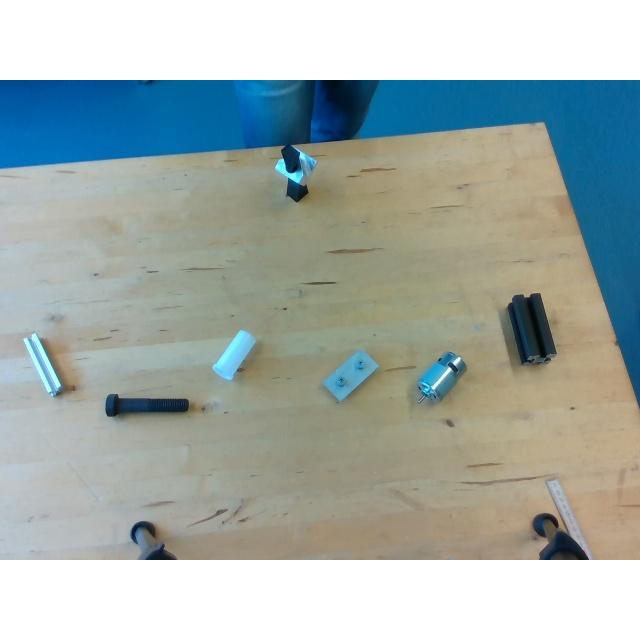F20_20_G: (22, 333, 62, 395)
M20_100: (104, 394, 188, 414)
Motor2: (416, 349, 468, 406)
S40_40_B: (507, 293, 555, 363)
Spacer: (212, 329, 256, 377)
